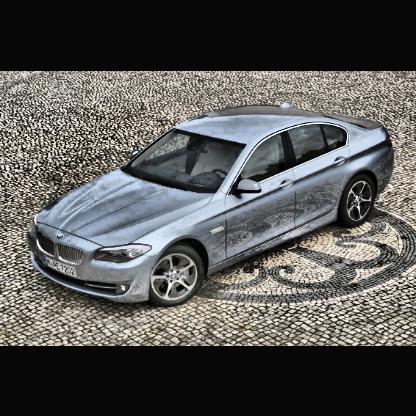BMW ActiveHybrid 5 Sedan 2012: (30, 104, 396, 308)
